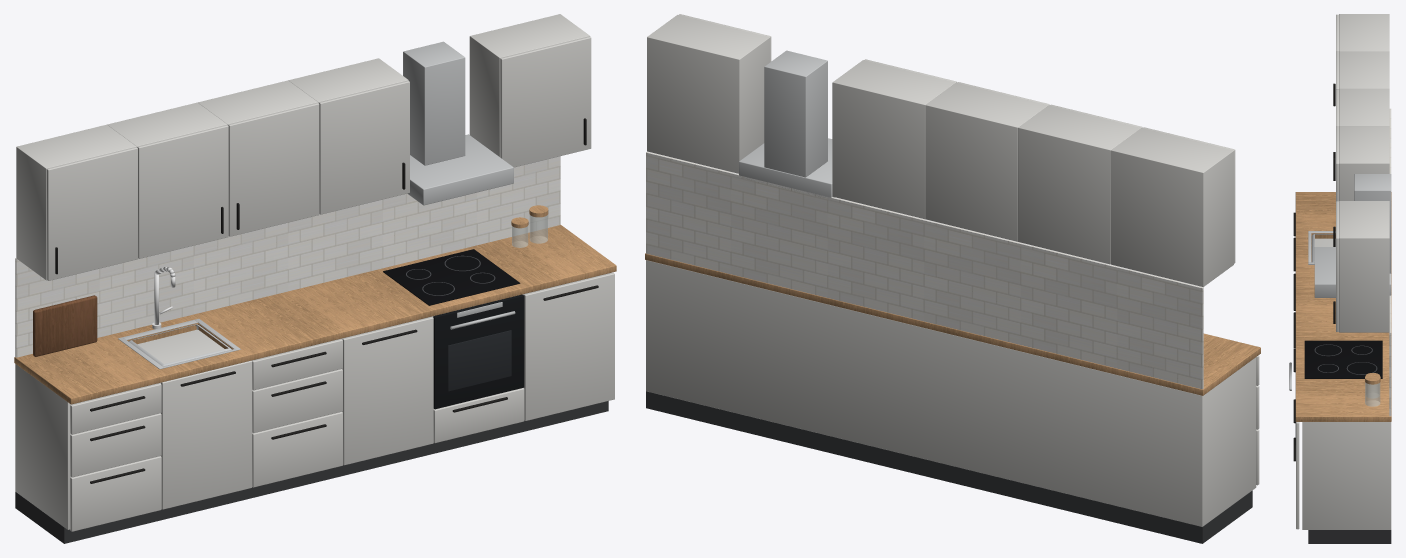
The model's file is kitchen-metod.glb.
3 views of the same model, side by side, from view 1: azimuth 30°, elevation 25°; view 2: azimuth 150°, elevation 25°; view 3: azimuth 270°, elevation 25° (orthographic). The views are drawn at different scales.
Parts seen in each view (by area): view 1: splash, worktop, door, front.006, front.007, upper-door, upper-door.002, upper-door.004, upper-door.001, upper-door.003, carcass, plinth (+18 smaller); view 2: carcass, splash, upper, upper.004, upper.003, upper.001, upper.002, plinth, chimney, worktop, hood; view 3: carcass, worktop, upper.004, upper.003, hob, upper, upper.001, upper.002, chimney, hood, plinth, splash (+8 smaller).
Part boxes in pixels (x1,y1,x2,y2): splash: [15, 156, 560, 357]; worktop: [14, 225, 616, 404]; door: [161, 360, 252, 509]; front.006: [342, 317, 433, 465]; front.007: [524, 272, 614, 420]; upper-door: [46, 147, 137, 280]; upper-door.002: [228, 103, 319, 236]; upper-door.004: [500, 36, 591, 167]; upper-door.001: [137, 125, 228, 258]; upper-door.003: [319, 80, 409, 214]; carcass: [15, 272, 611, 529]; plinth: [15, 401, 608, 543]; carcass: [646, 260, 1256, 526]; splash: [646, 152, 1203, 389]; upper: [1110, 128, 1233, 287]; upper.004: [647, 15, 769, 173]; upper.003: [832, 60, 955, 219]; upper.001: [1018, 105, 1140, 264]; upper.002: [925, 83, 1047, 241]; plinth: [646, 391, 1252, 543]; chimney: [764, 50, 827, 177]; worktop: [645, 253, 1260, 395]; hood: [739, 138, 834, 198]; carcass: [1302, 238, 1391, 529]; worktop: [1295, 192, 1391, 421]; upper.004: [1339, 201, 1389, 332]; upper.003: [1339, 126, 1389, 200]; hob: [1304, 340, 1382, 378]; upper: [1339, 14, 1389, 51]; upper.001: [1339, 51, 1389, 88]; upper.002: [1339, 88, 1389, 125]; chimney: [1354, 174, 1391, 273]; hood: [1314, 247, 1391, 297]; plinth: [1308, 530, 1391, 543]; splash: [1389, 108, 1391, 416].
Size of the model in its own units: 3.47 by 2.2 by 0.6665.
14 materials, 3 textured.
